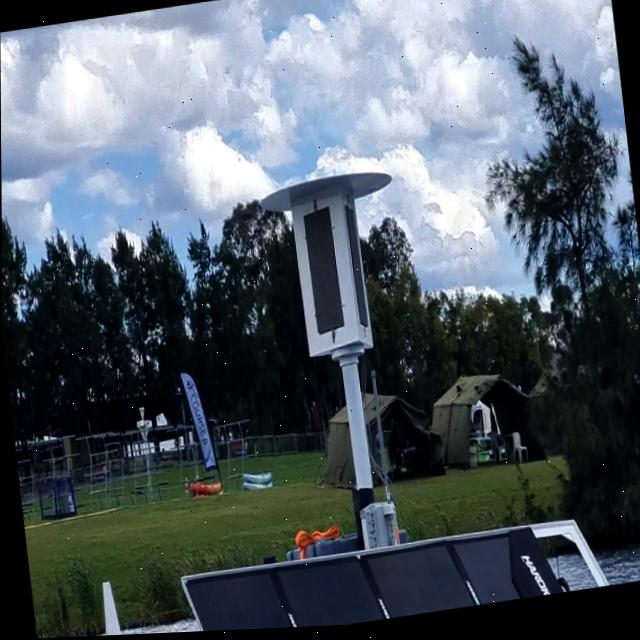led: (294, 198, 355, 349)
